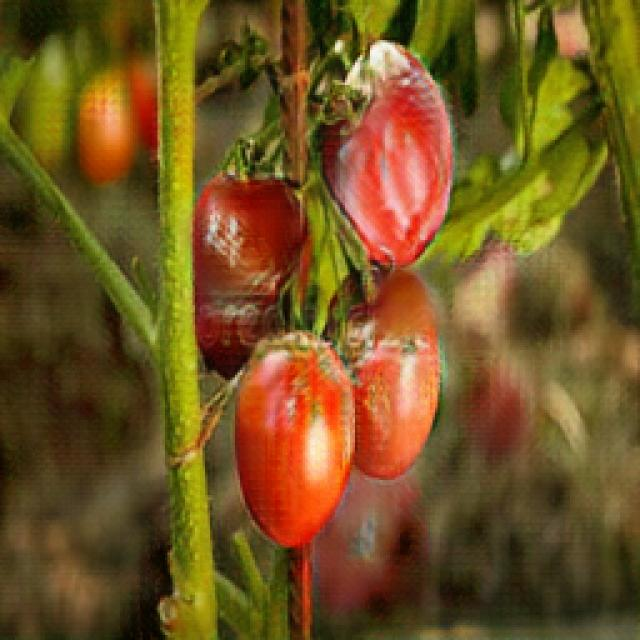overripe tomato: (319, 50, 455, 268), (233, 333, 361, 548), (324, 273, 449, 485)
